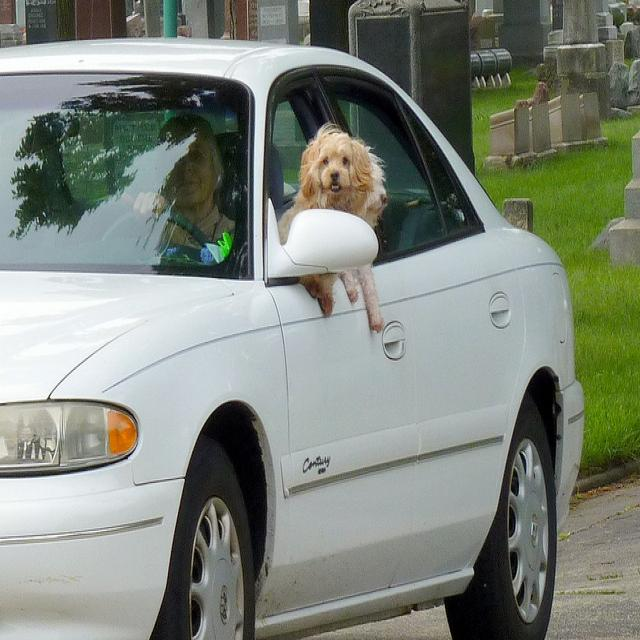Vehicle: (1, 38, 588, 634)
